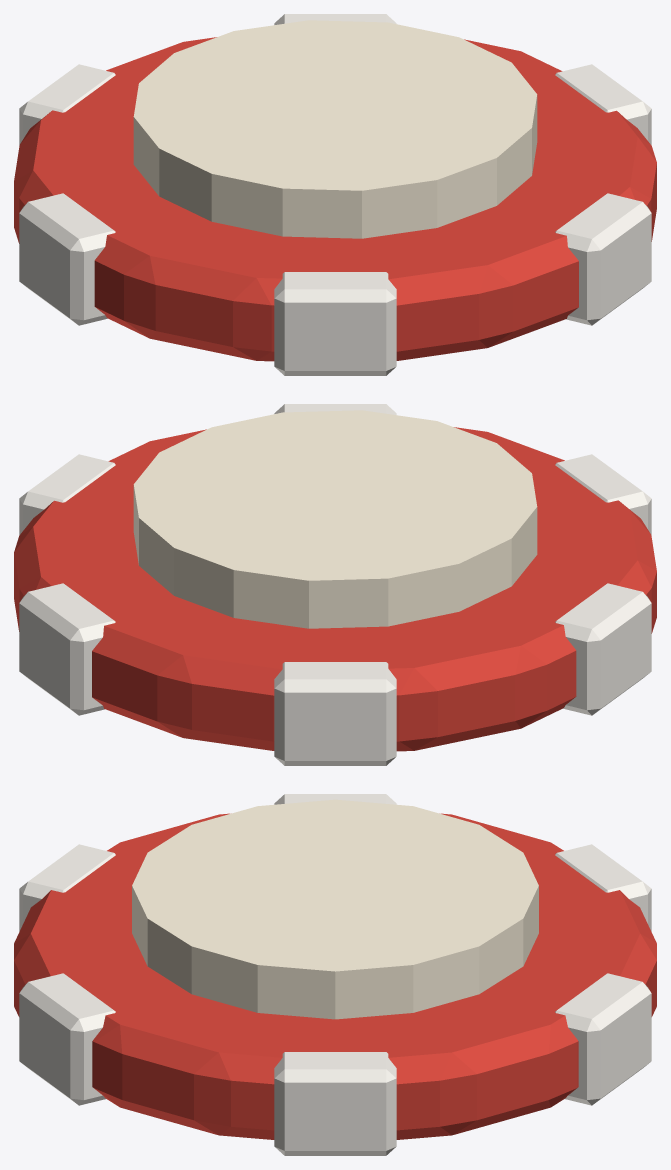
File: chip.glb
3 renders of one model, top to bottom at view 1: azimuth 30°, elevation 25°; view 2: azimuth 150°, elevation 25°; view 3: azimuth 270°, elevation 25°, orthographic.
Parts seen in each view (by area): view 1: chip; view 2: chip; view 3: chip.
Part boxes in pixels (x1,y1,x2,y2): chip: (14,14,656,375); chip: (14,404,656,765); chip: (14,794,656,1155).
Size of the model in its own units: 0.066 by 0.0144 by 0.0632.
